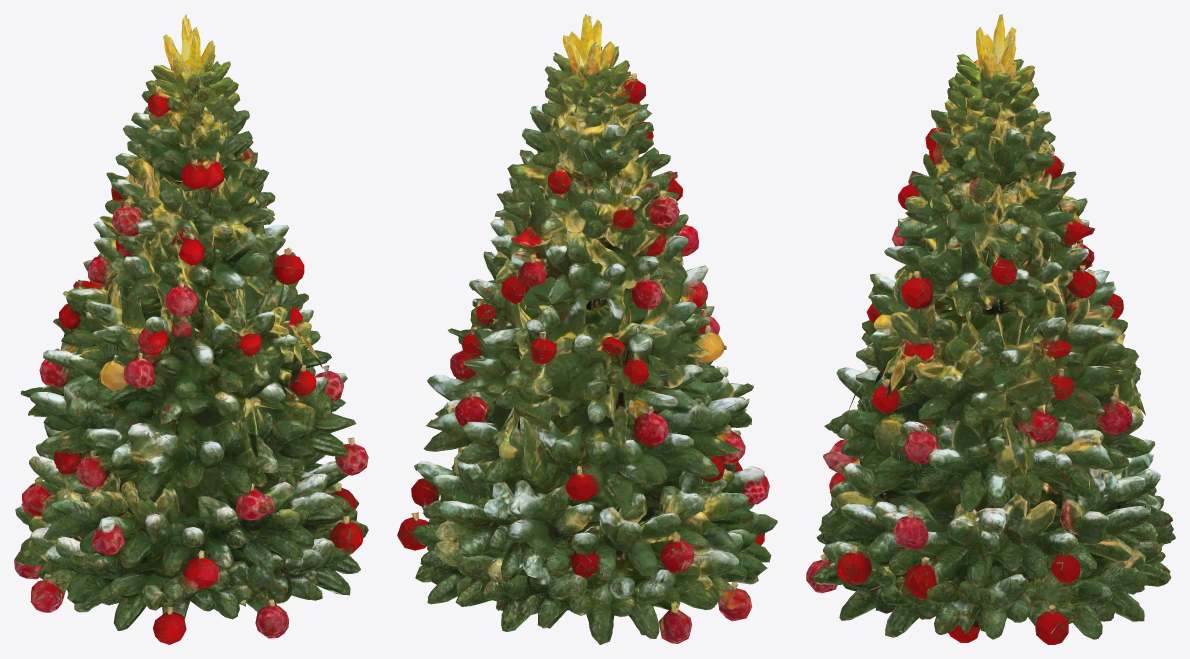
File: christmas_tree.glb
3 renders of one model, left to right at view 1: azimuth 30°, elevation 25°; view 2: azimuth 150°, elevation 25°; view 3: azimuth 270°, elevation 25°, orthographic. The views are drawn at different scales.
Size of the model in its own units: 1.1 by 1.88 by 1.08.
Materials: 1 (1 with a texture image).
